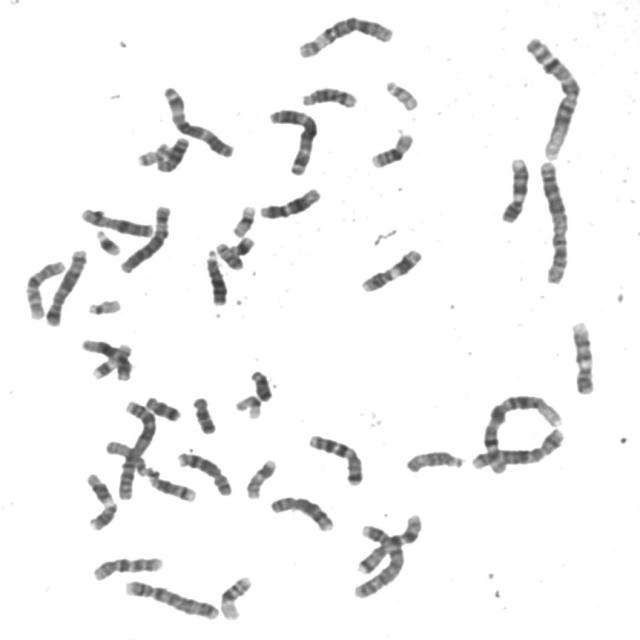A1: (520, 29, 584, 162), (474, 388, 566, 474)
A2: (533, 154, 573, 285), (111, 394, 158, 502)
A3: (157, 80, 237, 158), (264, 102, 320, 177)
B4: (119, 574, 221, 622), (349, 518, 406, 600)
B5: (466, 422, 567, 471), (40, 242, 89, 328)
C10: (19, 256, 68, 322), (87, 550, 165, 582)
C11: (355, 242, 425, 294), (80, 468, 119, 532)
C12: (76, 333, 133, 382), (254, 182, 324, 221)
C6: (293, 10, 395, 60), (114, 198, 174, 274)
C7: (352, 508, 426, 576), (302, 428, 366, 488)
C8: (264, 489, 336, 534), (172, 447, 234, 498)
C9: (565, 315, 598, 396), (495, 152, 532, 224)
D13: (200, 245, 229, 307), (151, 131, 191, 173)
D14: (142, 466, 198, 503), (296, 81, 359, 109)
D15: (100, 434, 156, 478), (401, 444, 466, 474)
E16: (365, 126, 416, 170), (214, 570, 254, 622)
E17: (240, 453, 279, 500), (90, 342, 132, 380)
E18: (186, 391, 219, 436), (140, 390, 183, 423)
F19: (227, 200, 257, 238), (230, 389, 264, 420)
F20: (132, 138, 172, 168), (215, 242, 245, 271)
G21: (91, 224, 123, 257), (226, 230, 256, 257)
G22: (380, 75, 421, 112), (82, 293, 123, 316)
X: (76, 203, 156, 239)
Y: (245, 364, 275, 403)
